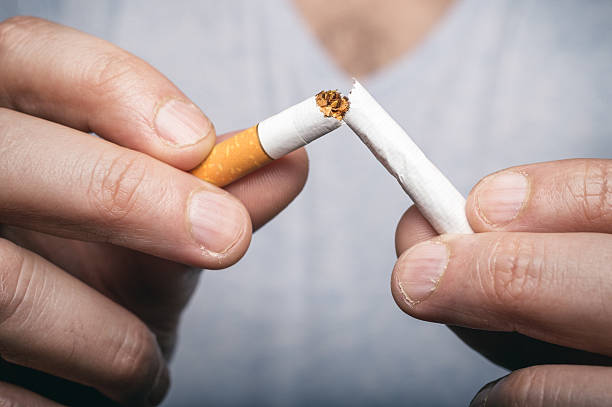cigarette: (341, 74, 475, 236), (190, 89, 349, 188)
